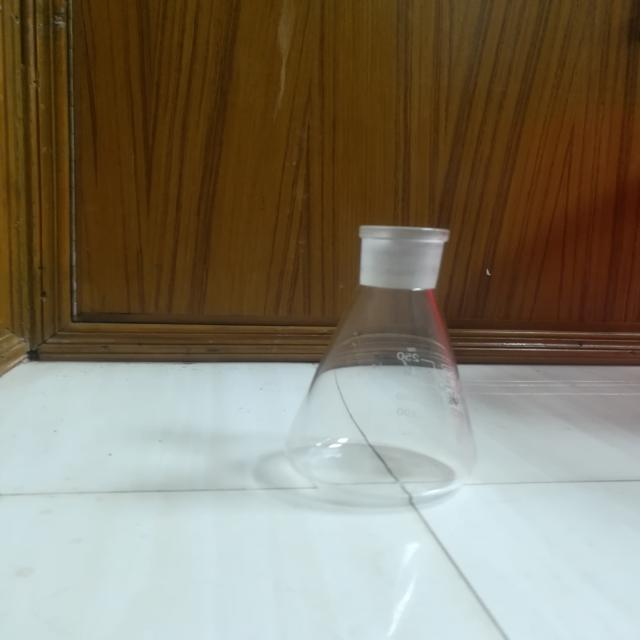Conical_Flask: (243, 154, 523, 516)
